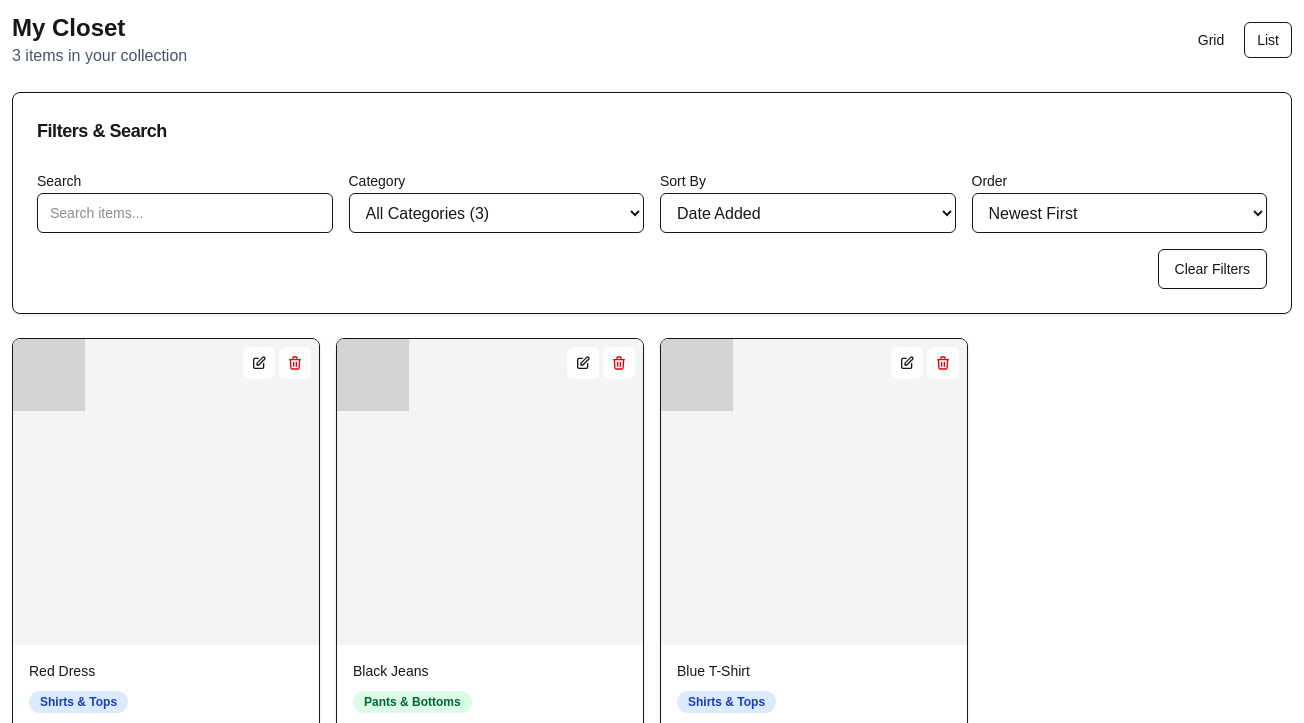
Test: ClosetView Integration › Filtering Integration › searches items by name
Expected: the heading "Blue T-Shirt" is shown, [677, 663, 750, 679]
Expected: the heading "Black Jeans" is shown, [353, 663, 428, 679]
Type "dress" into the field with placeholder "Search items..." at (185, 213), box [37, 193, 332, 233]
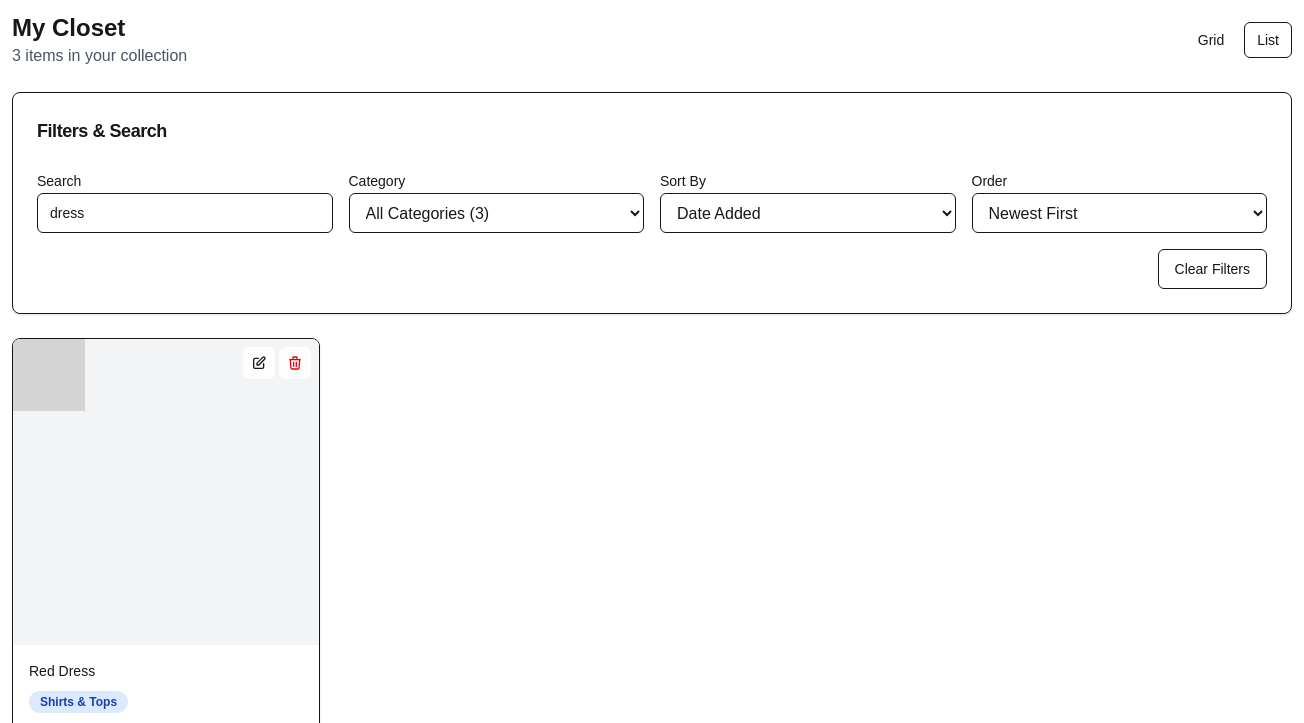
Expected: the heading "Red Dress" is shown, [29, 663, 95, 679]
Now the heading "Blue T-Shirt" is gone
Now the heading "Black Jeans" is gone
